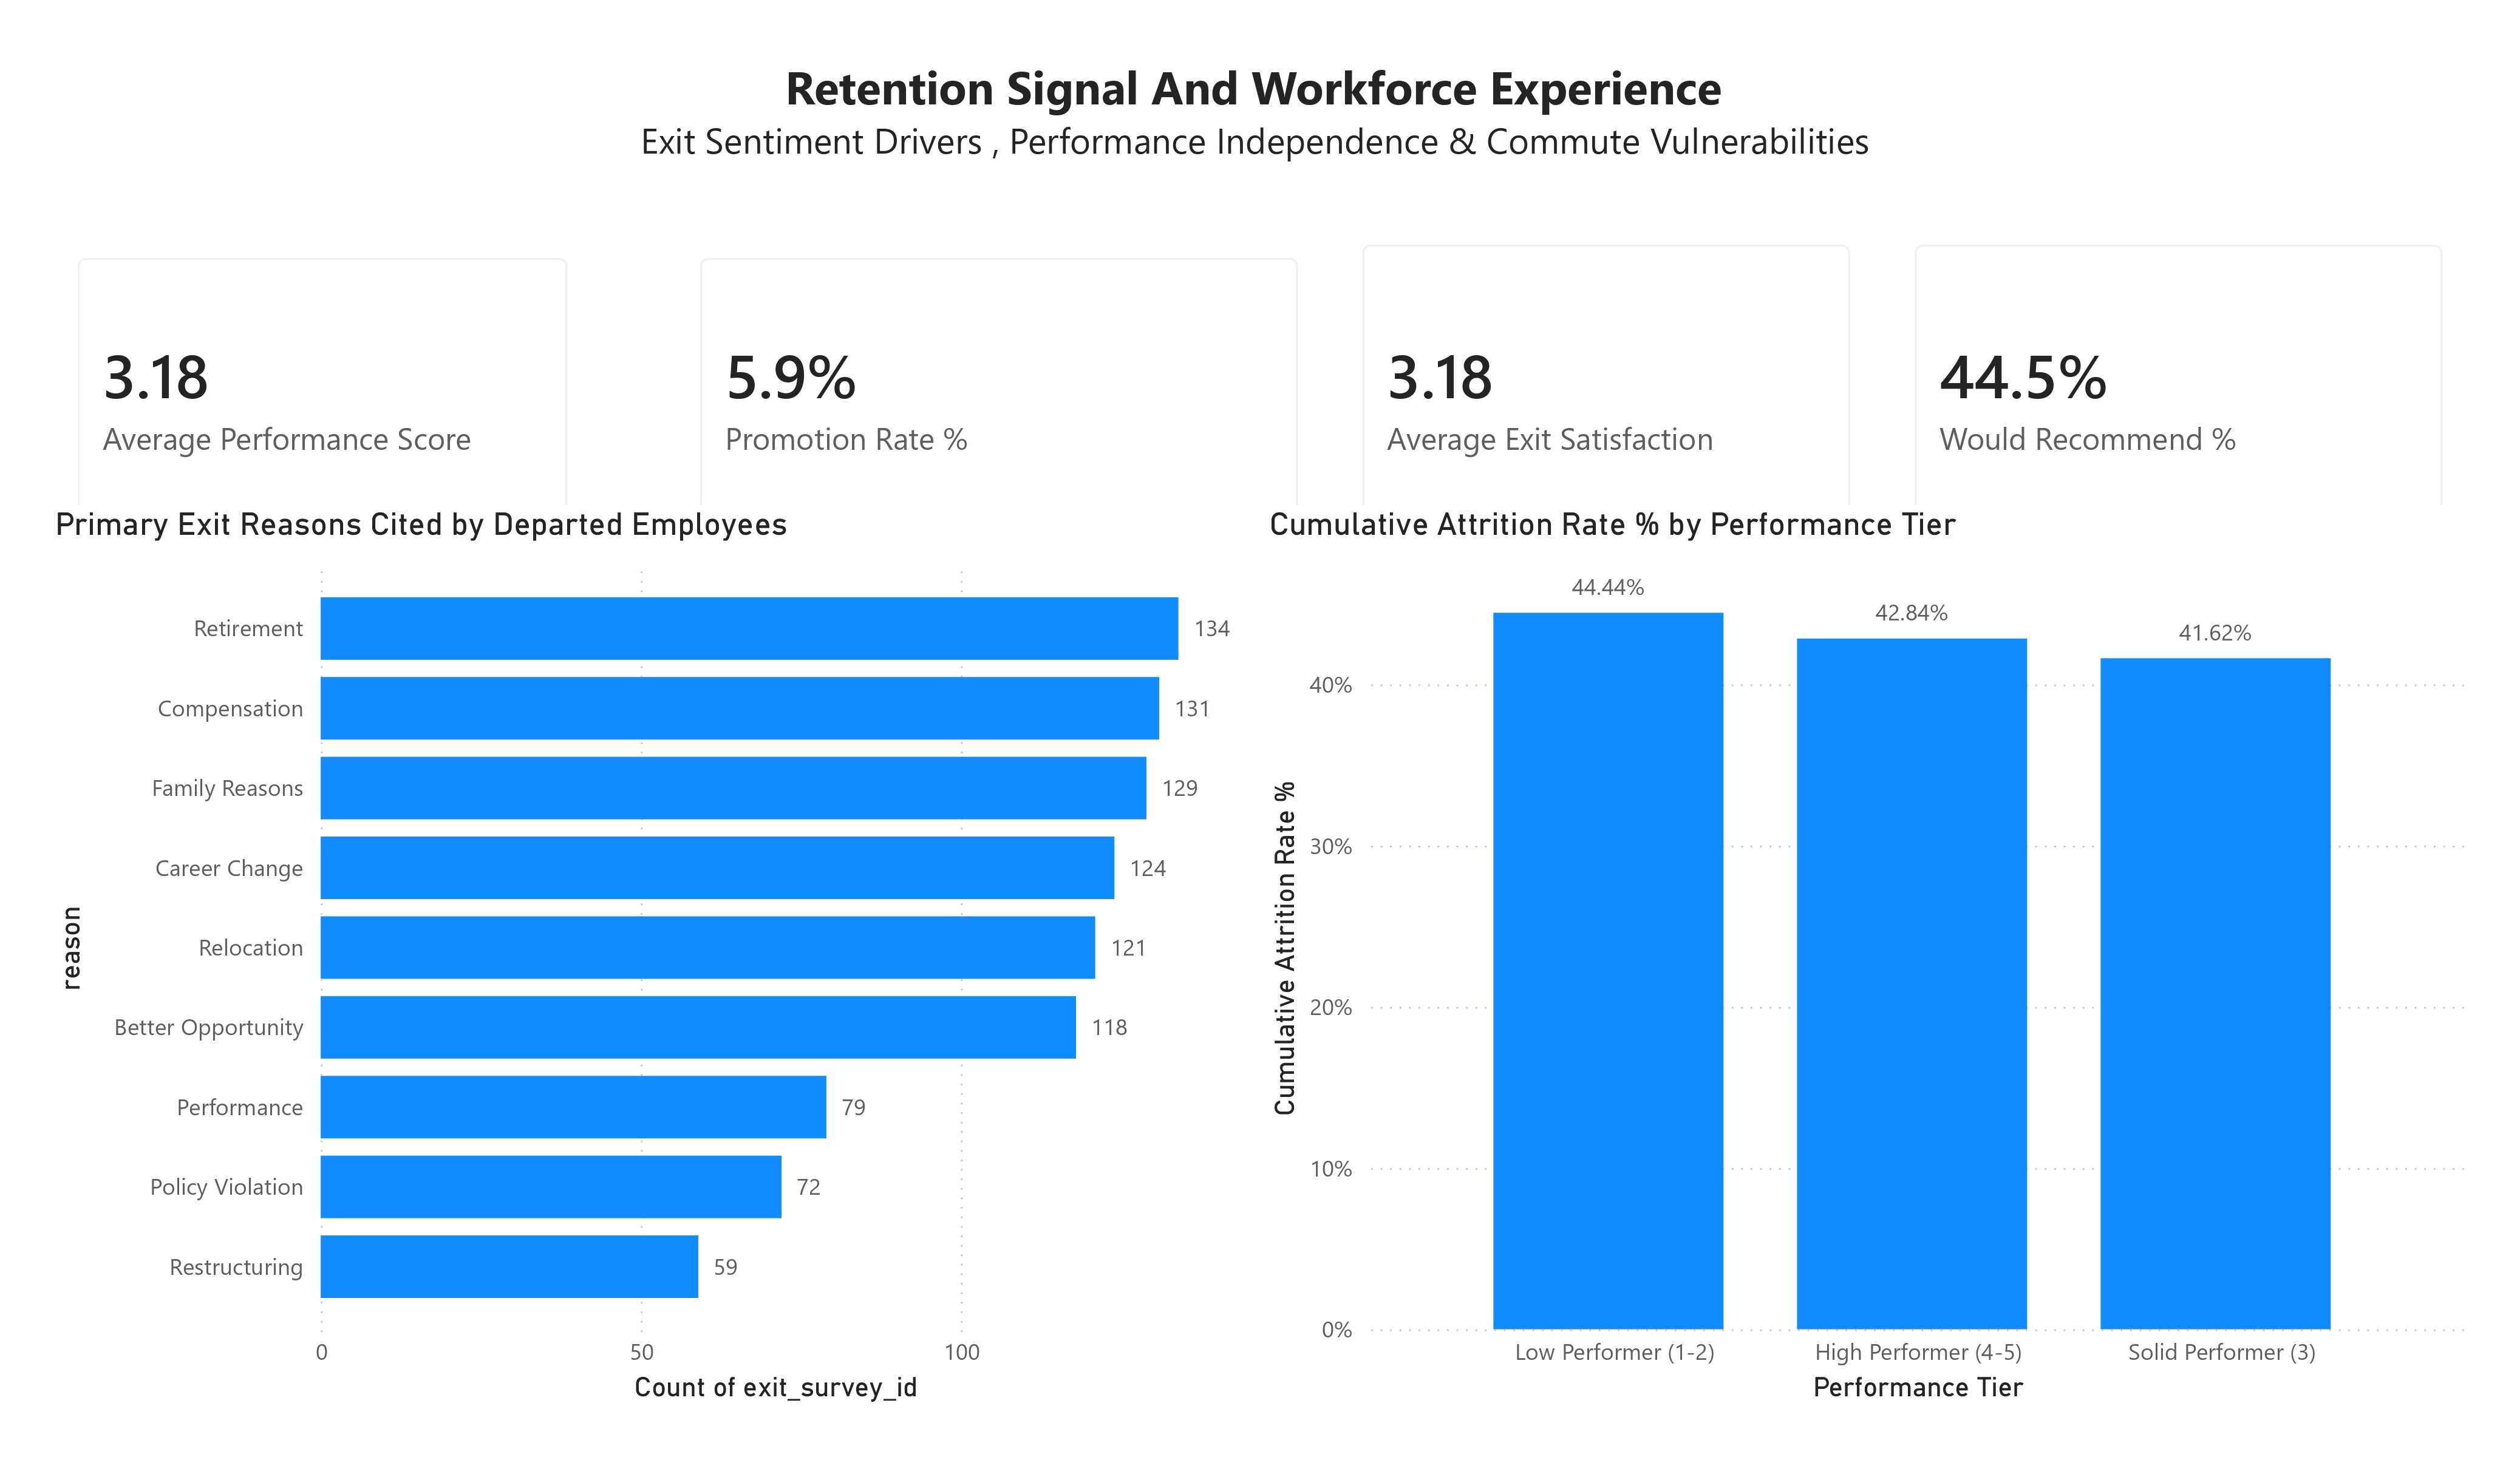

Layout of this report page (visuals, bound fields, positions):
{"tool":"powerbi","page":{"name":"Retention & Experience","canvas":[1280,720],"ordinal":2},"visuals":[{"type":"textbox","box":[0,0,1280,88.3],"z":0},{"type":"cardVisual","fields":{"Data":["employees_clean.Average Performance Score"]},"box":[0,95,291.7,176.7],"z":1000},{"type":"cardVisual","fields":{"Data":["employees_clean.Promotion Rate %"]},"box":[328.3,95,348.3,176.7],"z":2000},{"type":"cardVisual","fields":{"Data":["employees_clean.Average Exit Satisfaction"]},"box":[676.7,88.3,291.7,190],"z":3000},{"type":"cardVisual","fields":{"Data":["employees_clean.Would Recommend %"]},"box":[968.3,88.3,311.7,190],"z":4000},{"type":"clusteredBarChart","title":"Primary Exit Reasons Cited by Departed Employees","fields":{"Category":["exit_surveys_clean.reason"],"Y":["CountNonNull(exit_surveys_clean.exit_survey_id)"]},"box":[0,241.7,640,478.3],"z":5000},{"type":"clusteredColumnChart","title":"Cumulative Attrition Rate % by Performance Tier","fields":{"Category":["employees_clean.Performance Tier"],"Y":["employees_clean.Cumulative Attrition Rate %"]},"box":[640,241.7,640,478.3],"z":6001}]}

Visuals, with their boxes on the page's 1280x720 design canvas (x1, y1, x2, y2). These are canvas units, not pixel positions in the 2520x1457 screenshot, which may show the page scaled, cropped or inside an application window:
textbox: detection(0, 0, 1280, 88)
cardVisual - employees_clean.Average Performance Score: detection(0, 95, 292, 272)
cardVisual - employees_clean.Promotion Rate %: detection(328, 95, 677, 272)
cardVisual - employees_clean.Average Exit Satisfaction: detection(677, 88, 968, 278)
cardVisual - employees_clean.Would Recommend %: detection(968, 88, 1280, 278)
"Primary Exit Reasons Cited by Departed Employees" clusteredBarChart: detection(0, 242, 640, 720)
"Cumulative Attrition Rate % by Performance Tier" clusteredColumnChart: detection(640, 242, 1280, 720)
